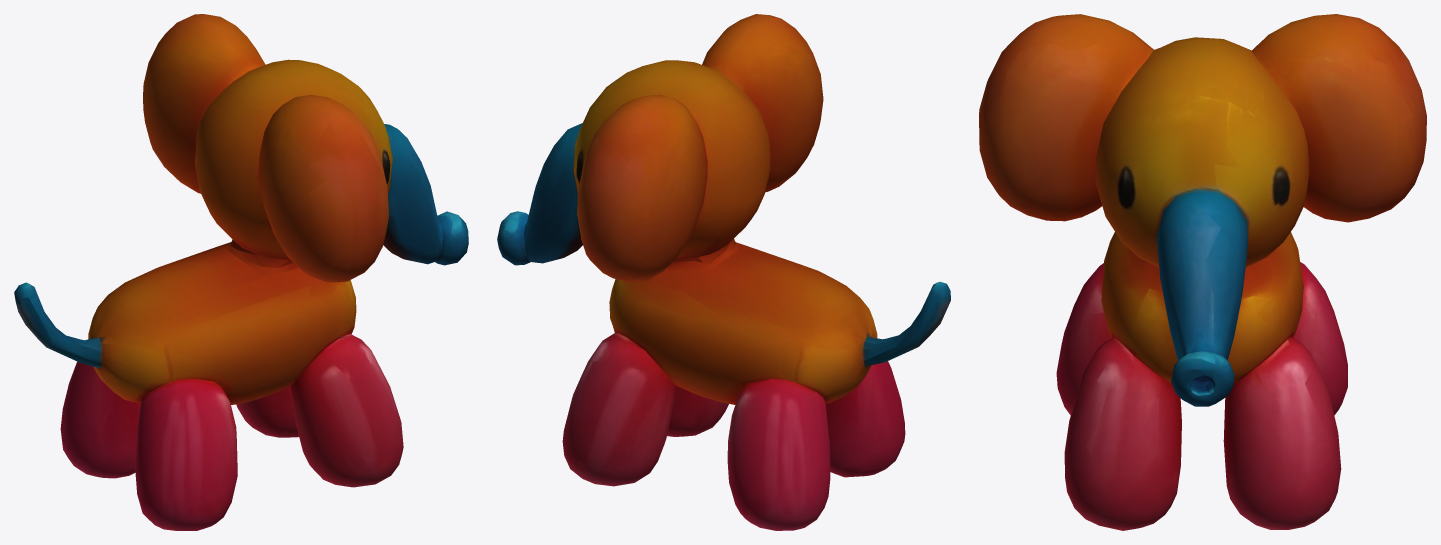
Rendered from BalloonBeasts.glb.
3 views of the same model, side by side, from view 1: azimuth 30°, elevation 25°; view 2: azimuth 150°, elevation 25°; view 3: azimuth 270°, elevation 25° (orthographic). The views are drawn at different scales.
Visible parts, largest first — view 1: BalloonBeasts; view 2: BalloonBeasts; view 3: BalloonBeasts.
Boxes of the visible parts, <box> form: BalloonBeasts: <box>14,14,468,530</box>; BalloonBeasts: <box>497,14,950,530</box>; BalloonBeasts: <box>979,14,1426,530</box>.
Size of the model in its own units: 1.47 by 1.29 by 1.1.
1 material, 1 textured.
